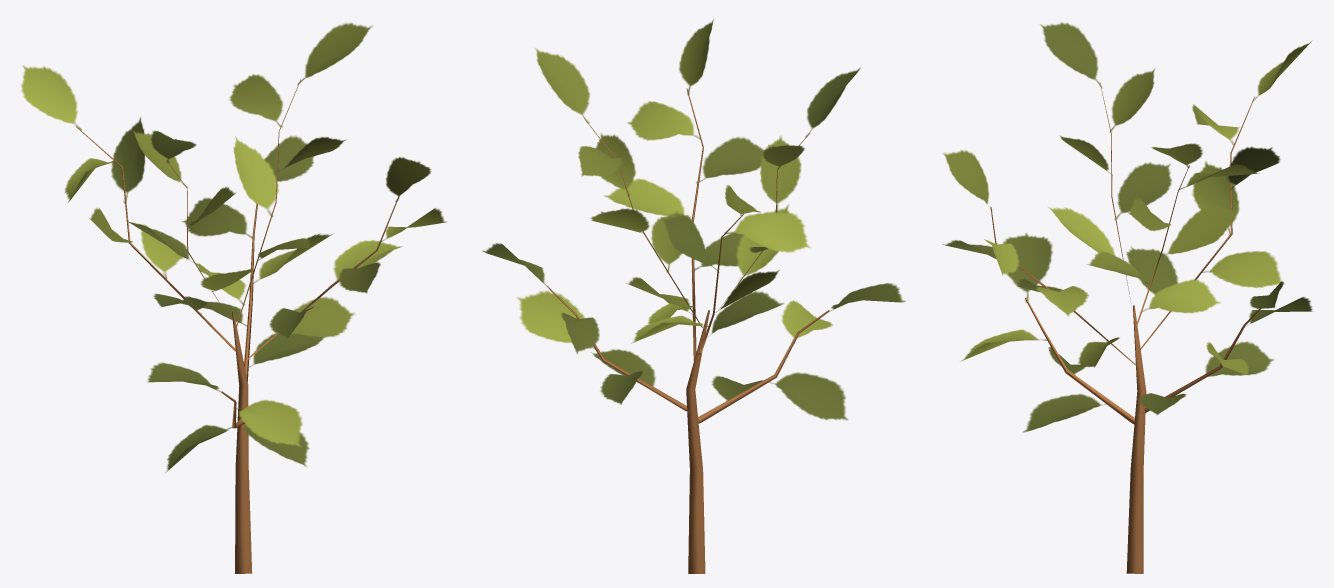
File: Young_Birch_Tree_3.glb
The picture shows the model from 3 angles, left to right: view 1: azimuth 30°, elevation 25°; view 2: azimuth 150°, elevation 25°; view 3: azimuth 270°, elevation 25°; orthographic projection.
Parts seen in each view (by area): view 1: Young_Birch_Tree_3; view 2: Young_Birch_Tree_3; view 3: Young_Birch_Tree_3.
Part boxes in pixels (x1=…): Young_Birch_Tree_3: x1=21, y1=22, x2=446, y2=573; Young_Birch_Tree_3: x1=482, y1=19, x2=905, y2=573; Young_Birch_Tree_3: x1=942, y1=22, x2=1312, y2=573.
Bounding box in the file's own units: 0.8274 × 1.29 × 0.896.
2 materials, 2 textured.
